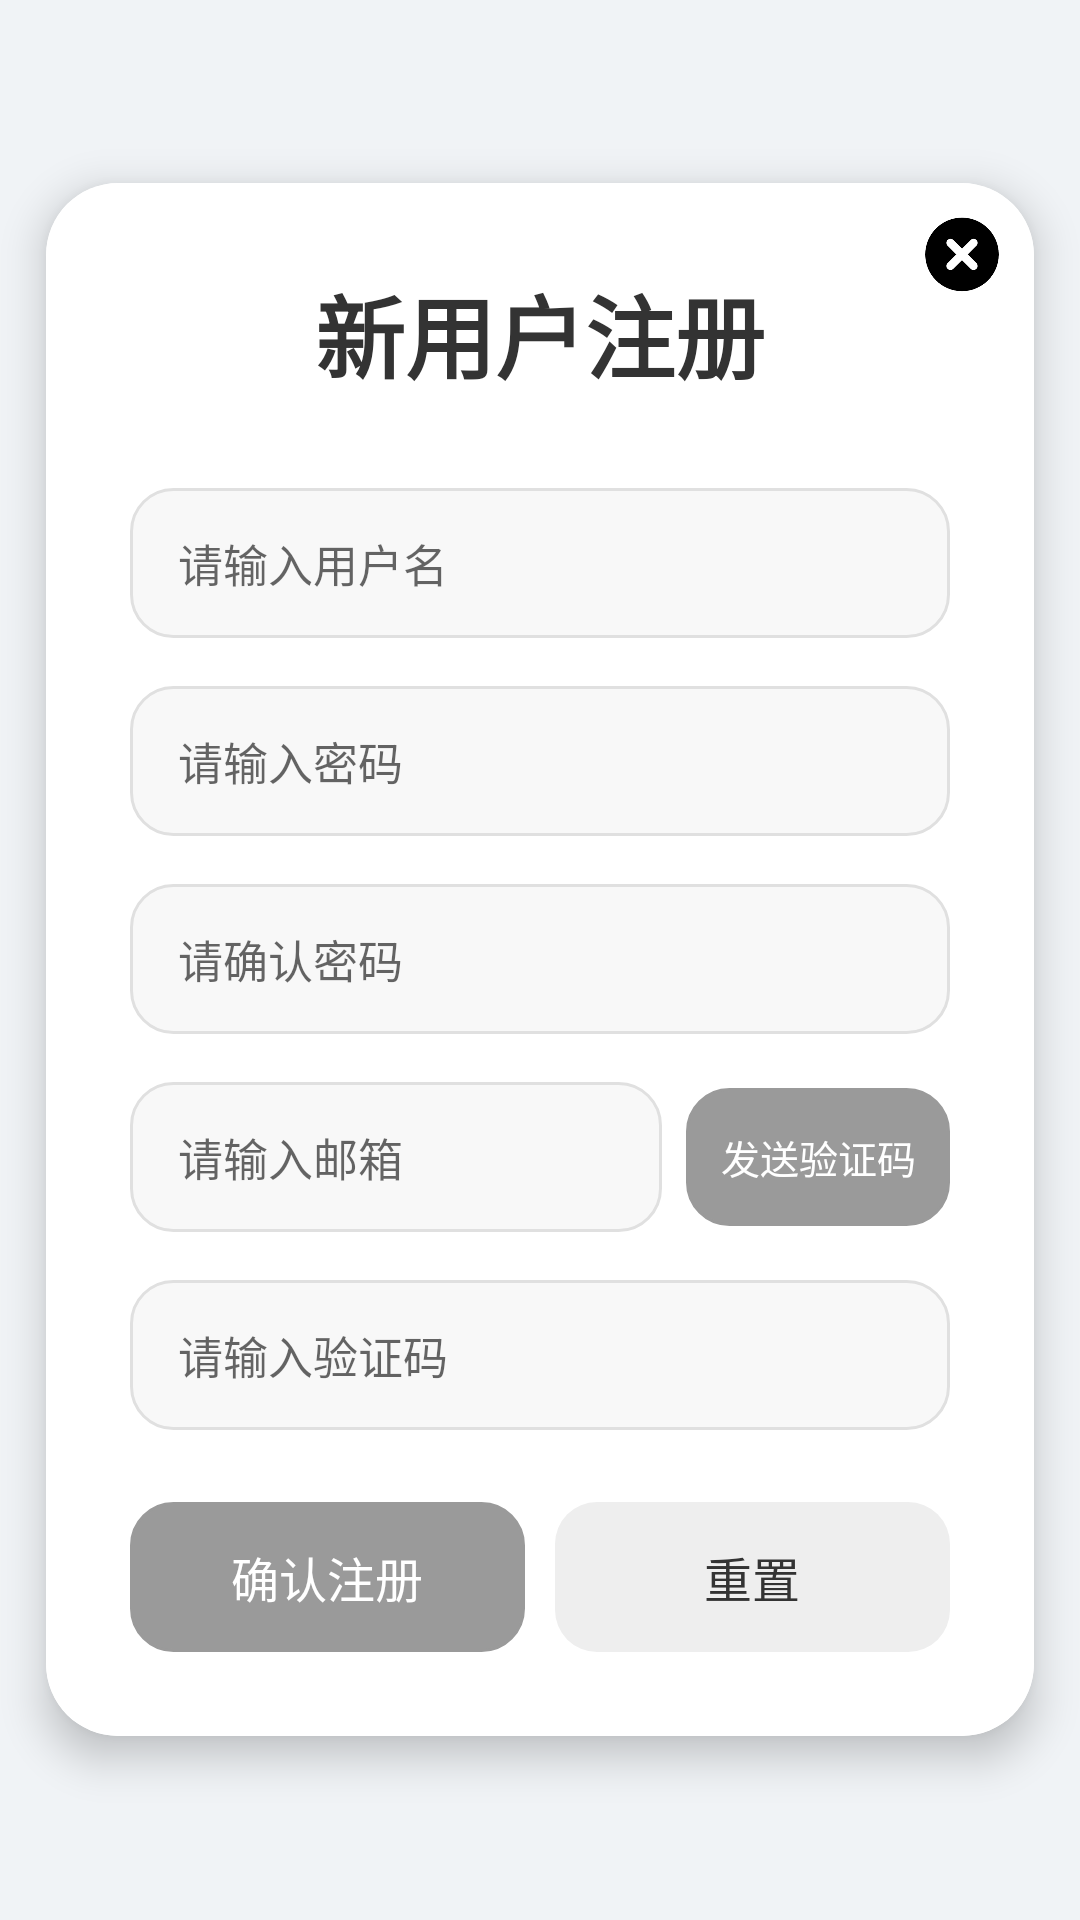

Icon bounding boxes for this 1080px x 1920px phone screenshot, format {"x1": x1, "y1": y1, "x2": x2, "y2": y2}:
clear: {"x1": 925, "y1": 217, "x2": 999, "y2": 291}
